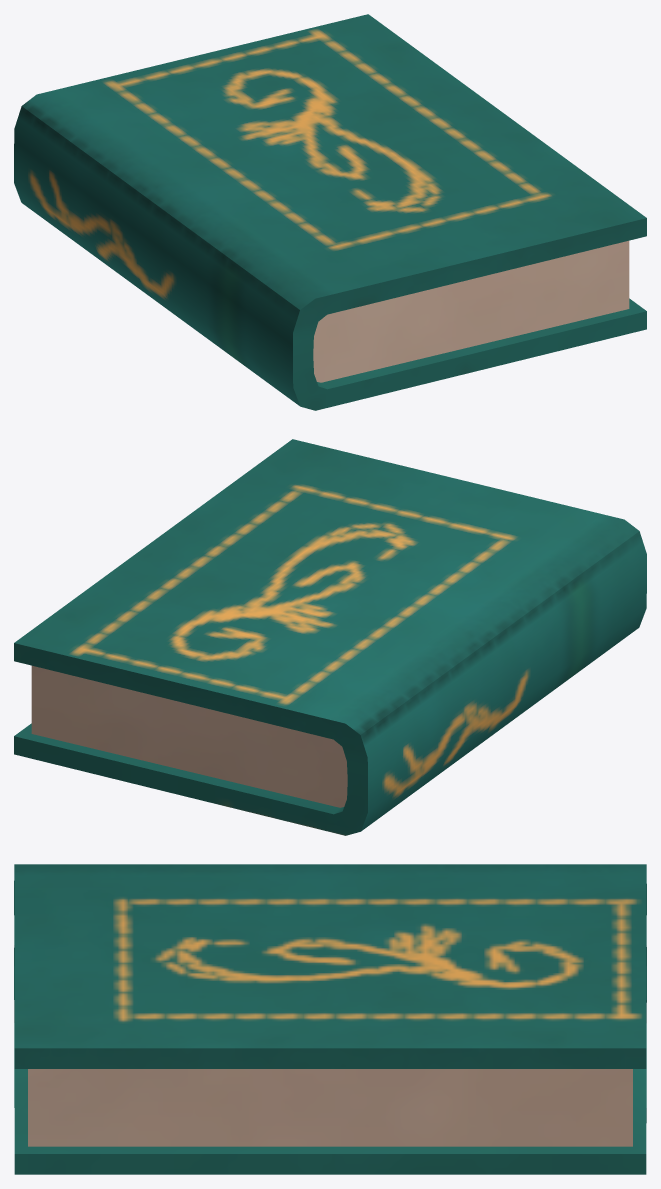
The model's file is SM_Book_01.fbx.
3 views of the same model, one above another, from view 1: azimuth 30°, elevation 25°; view 2: azimuth 150°, elevation 25°; view 3: azimuth 270°, elevation 25° (orthographic). The views are drawn at different scales.
Parts seen in each view (by area): view 1: SM_Book_01; view 2: SM_Book_01; view 3: SM_Book_01.
Boxes of the visible parts, x1,y1,x2,y2 form: SM_Book_01: (14,14,646,410); SM_Book_01: (14,439,646,835); SM_Book_01: (14,864,646,1174).
Bounding box in the file's own units: 15.17 × 4.59 × 20.71.
